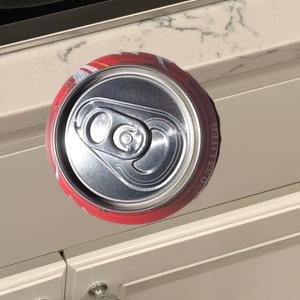can: (47, 50, 222, 226)
